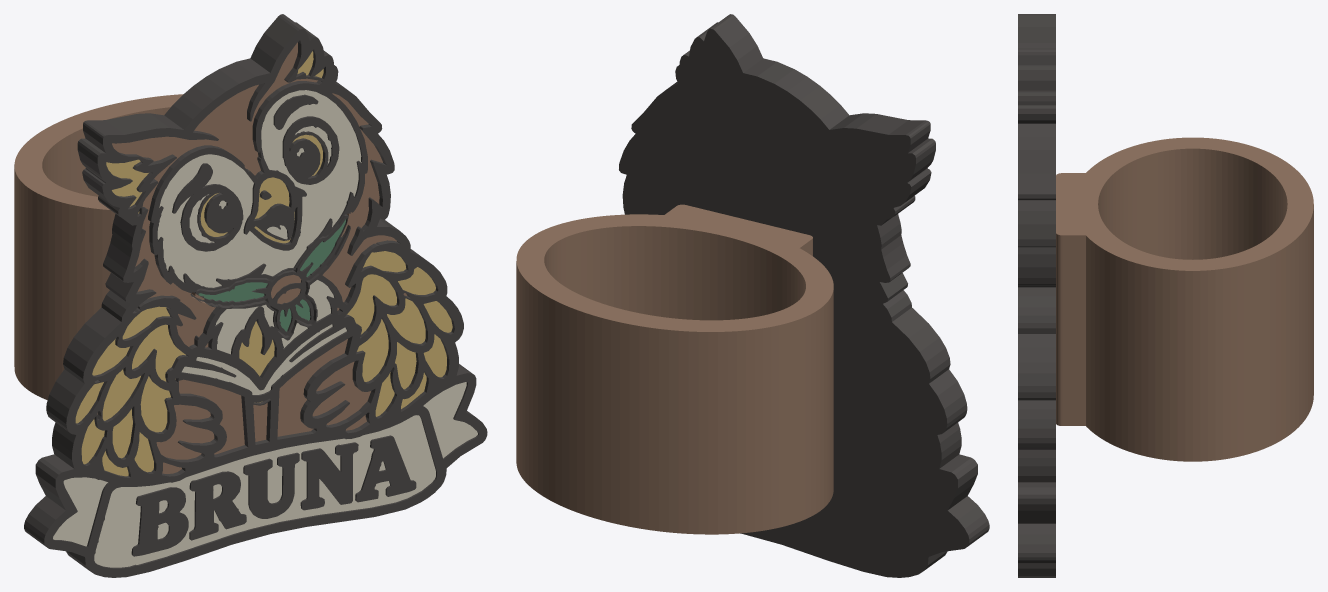
The model's file is anilha-coruja-bruna-v5-montada.glb.
3 renders of one model, left to right at view 1: azimuth 30°, elevation 25°; view 2: azimuth 150°, elevation 25°; view 3: azimuth 270°, elevation 25°, orthographic. The views are drawn at different scales.
Parts seen in each view (by area): view 1: preto, creme, anilha-castanha, dourado, castanho, lenco-preto, lenco-verde, no-castanho; view 2: anilha-castanha, preto; view 3: anilha-castanha, preto.
Boxes of the visible parts, x1,y1,x2,y2 form: preto: (24,14,487,577); creme: (53,90,477,567); anilha-castanha: (14,94,183,399); dourado: (75,51,452,476); castanho: (97,42,407,473); lenco-preto: (191,214,348,335); lenco-verde: (198,219,346,331); no-castanho: (191,216,349,303); anilha-castanha: (516,204,833,534); preto: (619,14,989,577); anilha-castanha: (1056,137,1313,461); preto: (1018,14,1055,577).
Size of the model in its own units: 45.82 by 49.96 by 28.1.
